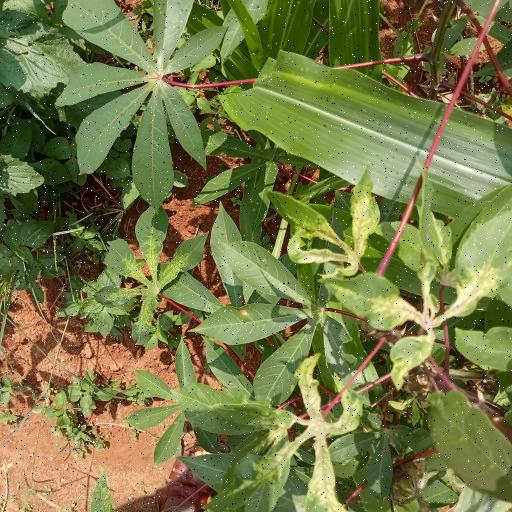Cassava_Brown_Leaf_Spot: (256, 364, 382, 512)
Cassava_Healthy: (63, 0, 224, 195), (196, 228, 333, 410)
